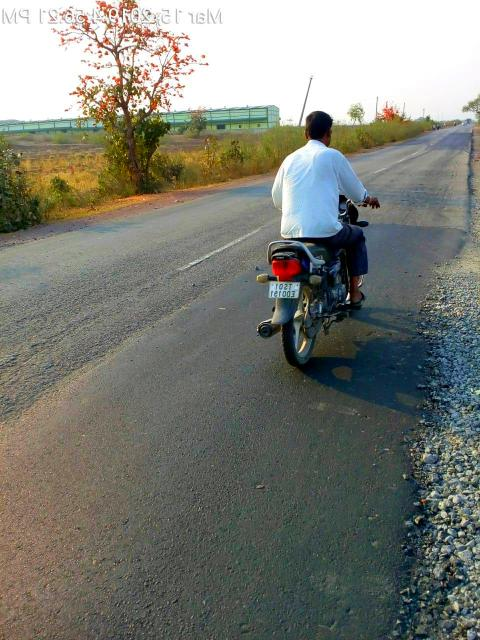motor: (254, 192, 383, 370)
non-helm: (303, 110, 336, 150)
